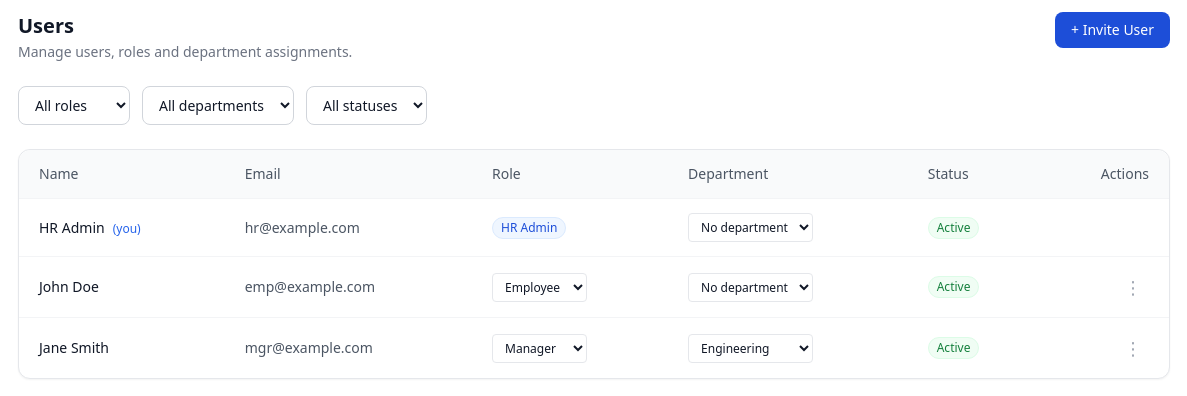
Test: UsersPage › filters users by role
Expected: the text "John Doe" is shown, [19, 256, 225, 318]
Select "Manager" in the 1st dropdown showing "All roles" at x=74, y=106, box [18, 86, 130, 125]
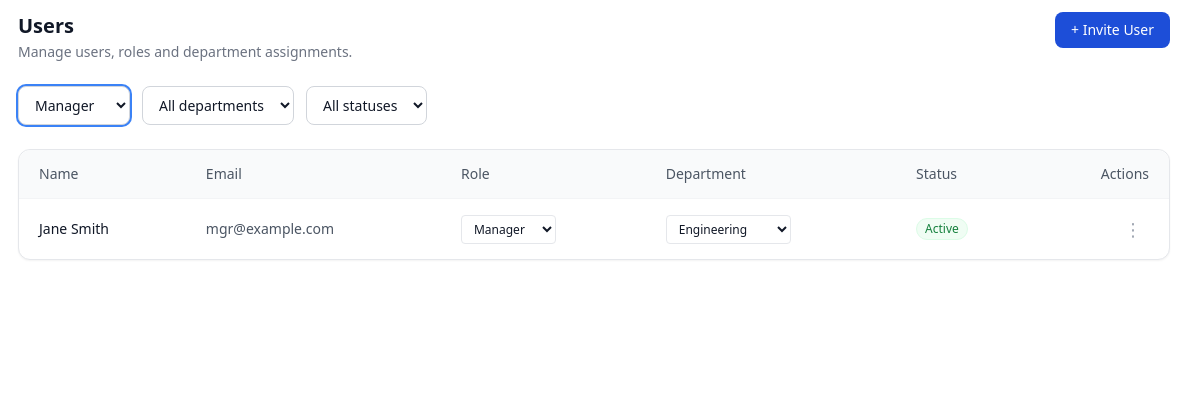
Expected: the text "Jane Smith" is shown, [19, 198, 186, 259]
Result: the text "John Doe" is gone
